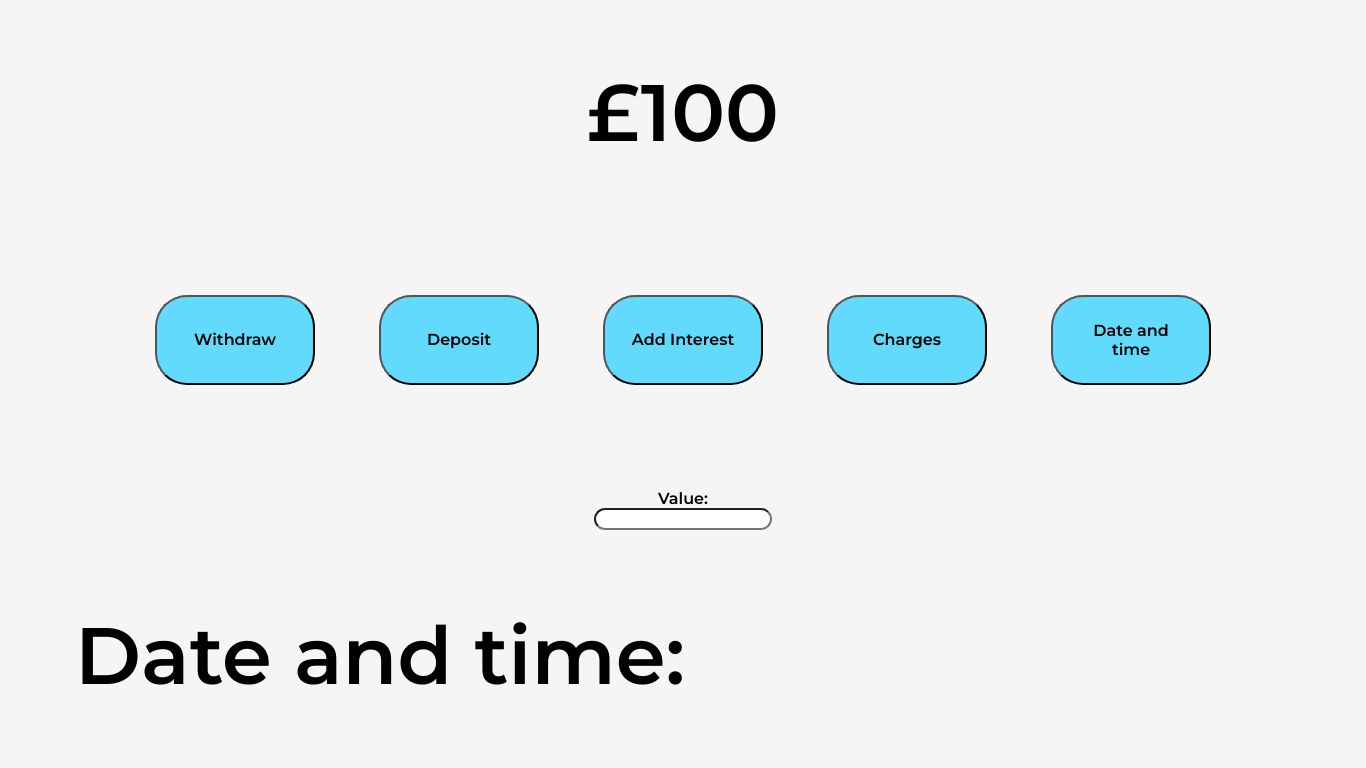
App component › updates value after withdraw
The image size is (1366, 768).
Step 1. Type "50" into the field labelled "Value:" → point(683, 518), box [594,508,772,530]
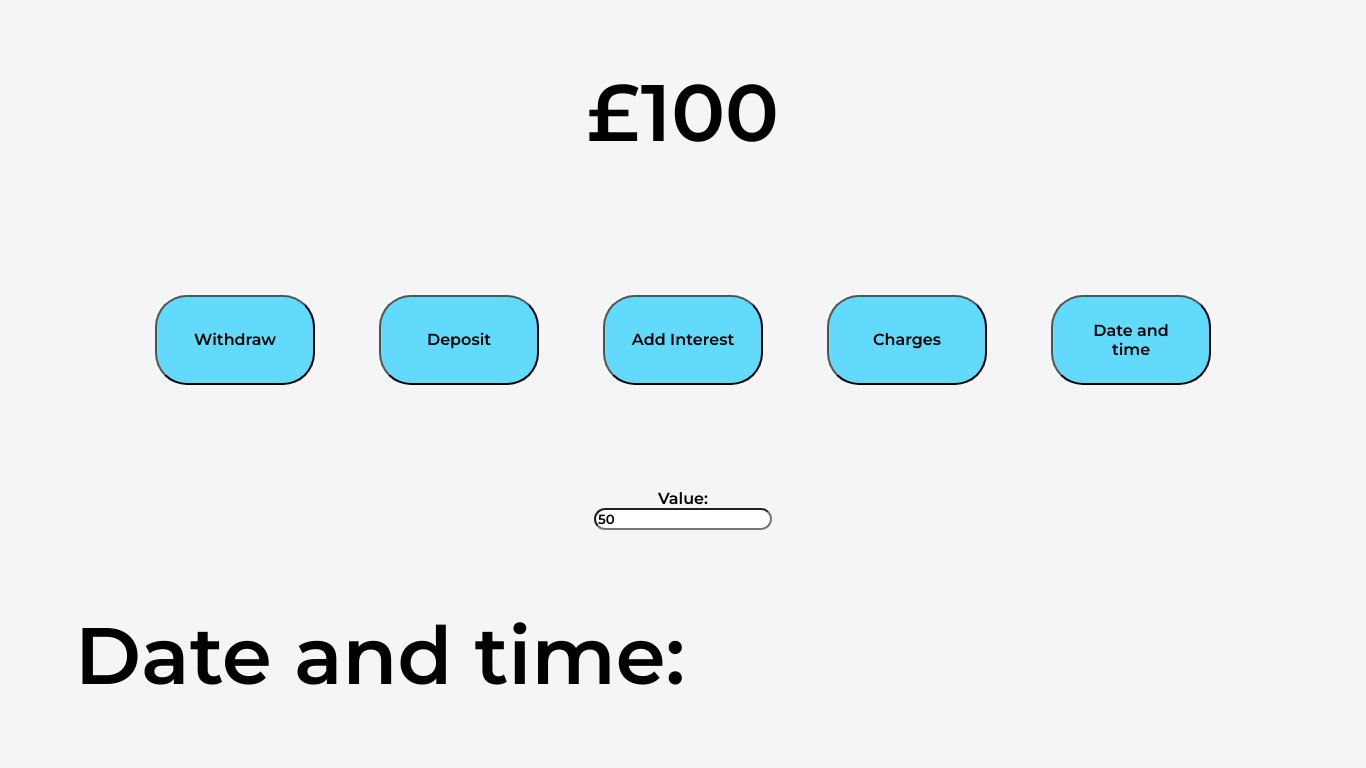
Step 2. Click the button "Withdraw" → point(235, 340), box [155,294,315,384]
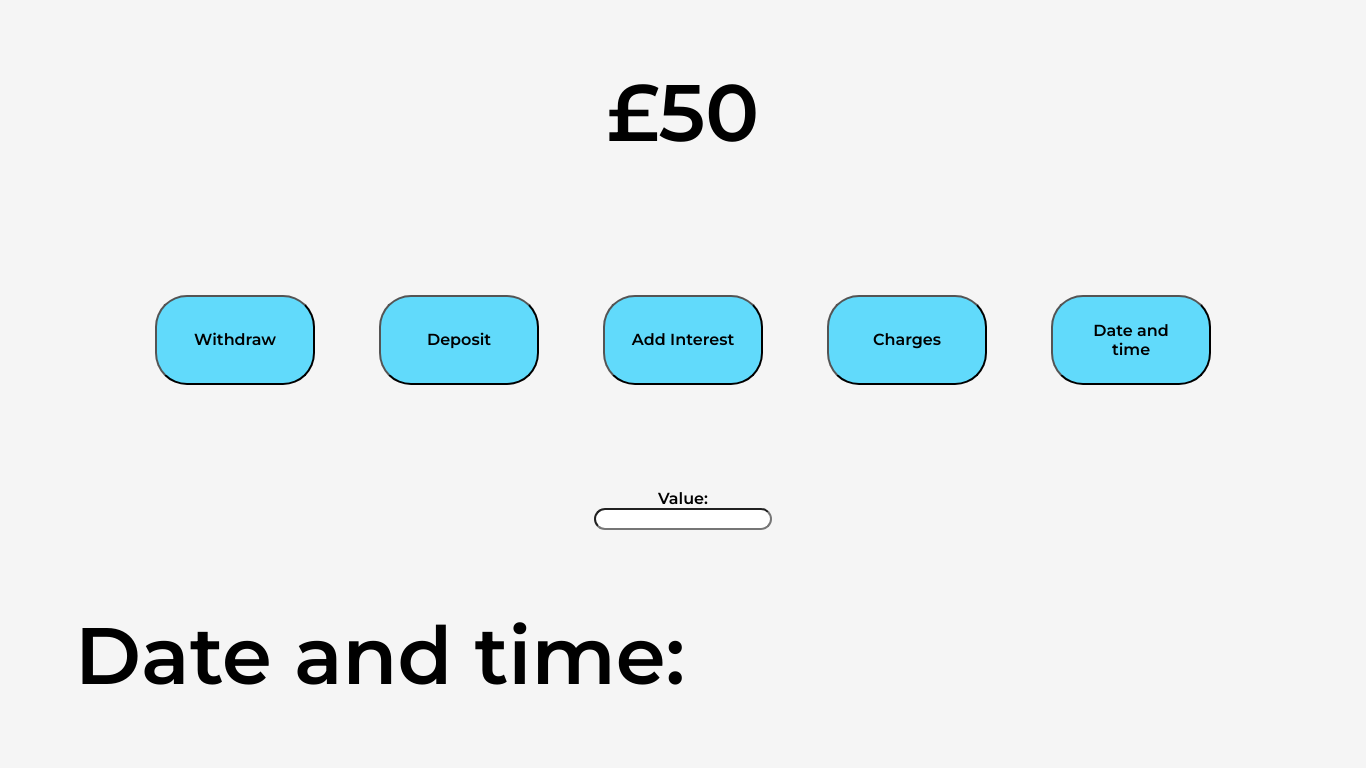
Now the heading "£50" is shown, box [607,64,759,161]
